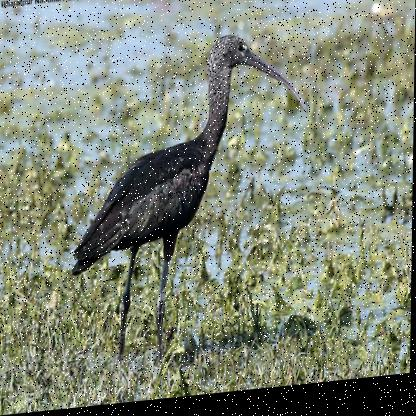Burung: (72, 36, 310, 376)
